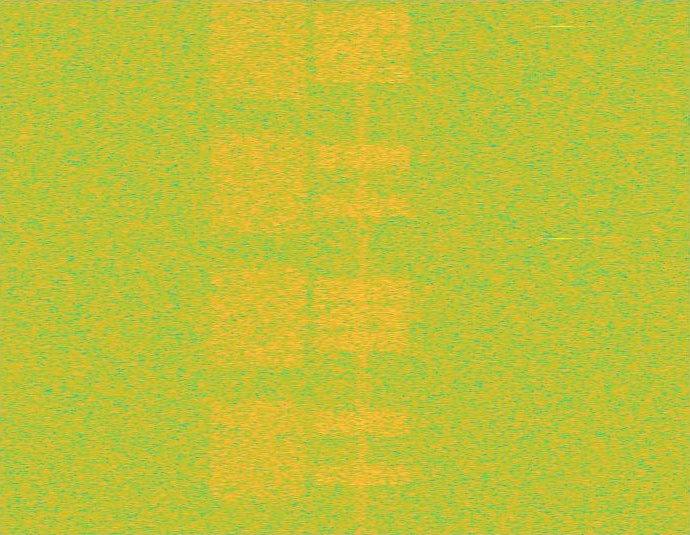5G: (207, 0, 311, 534)
DSSS: (355, 0, 369, 534)
LTE: (311, 0, 414, 534)
Radar: (554, 0, 568, 534)
